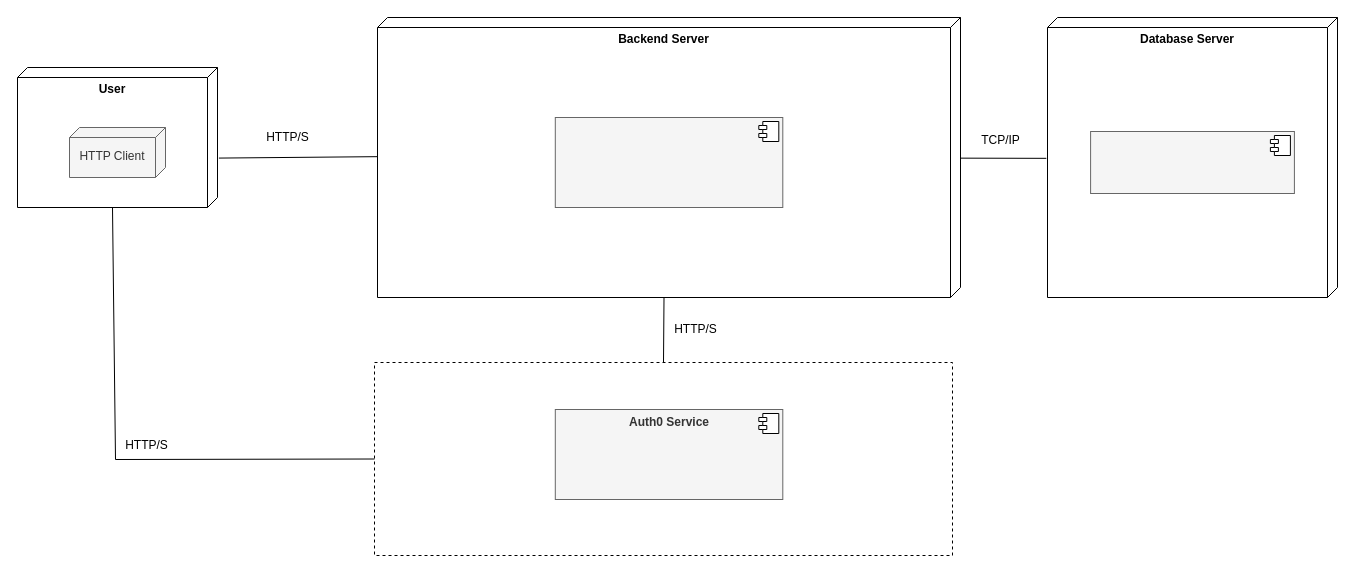
Some shapes in this 1355 by 573 pixel diagram are drawn without their labels. Each missing label, with the box of its shape:
eMovieShop Backend: (554, 116, 783, 208)
eMovieShop Database: (1090, 130, 1294, 194)
Third-Party Services: (374, 362, 952, 556)
